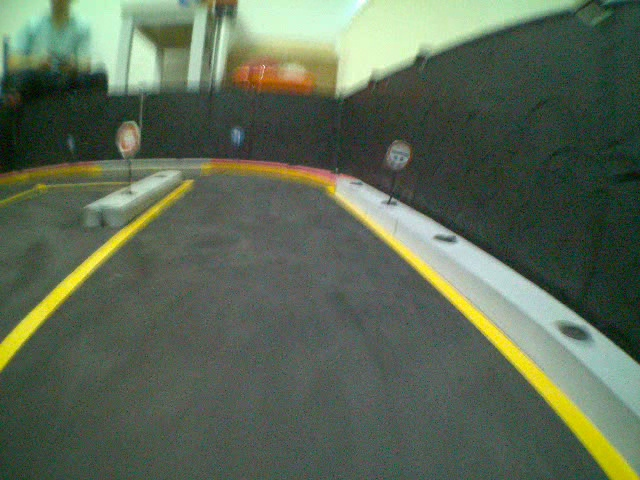Check: (386, 138, 413, 168)
Stop: (117, 121, 141, 155)
